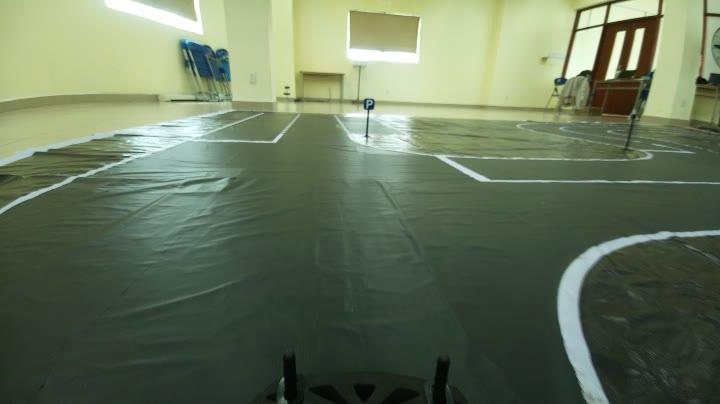parking: (359, 95, 376, 112)
